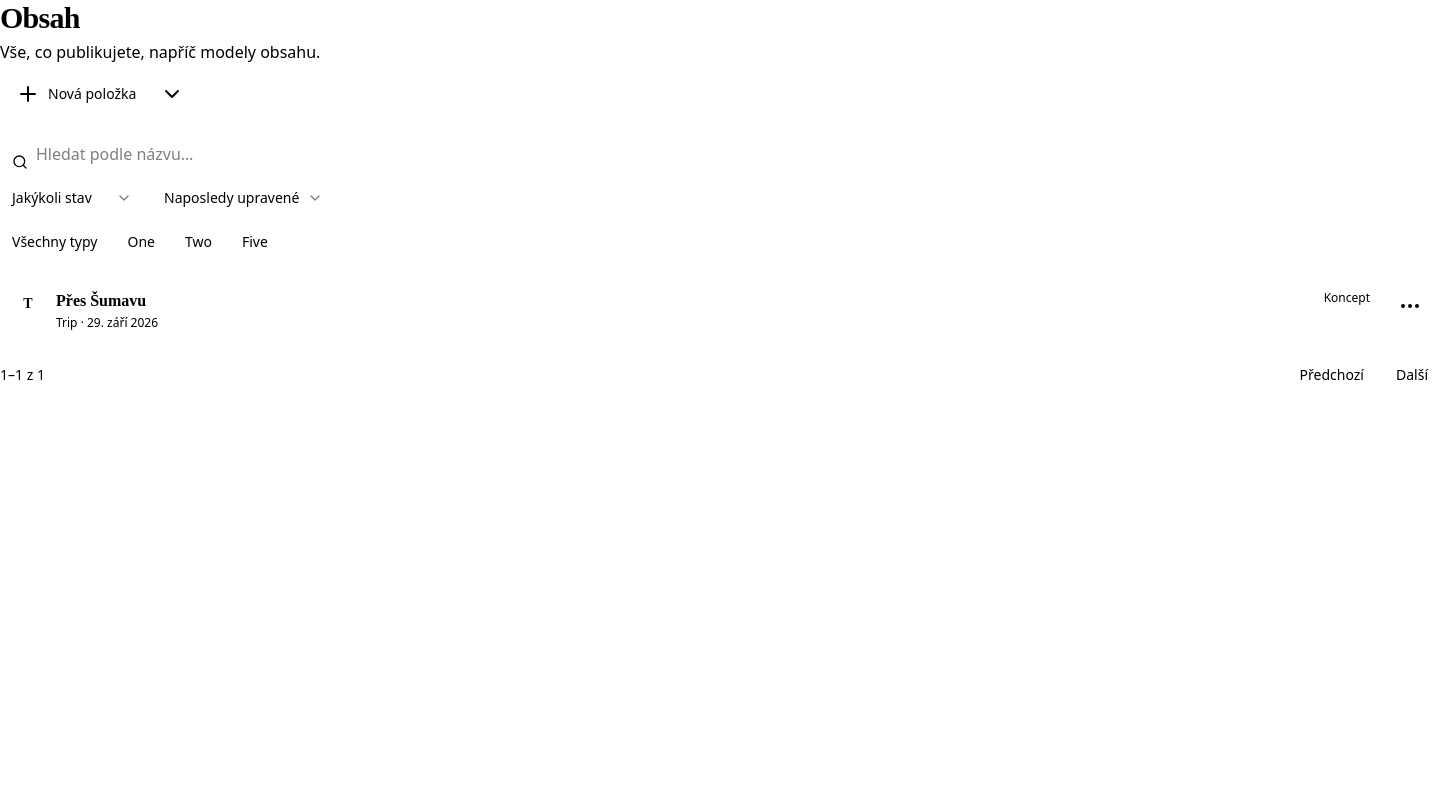
Scenario: in Czech › counts model fields with Czech plurals
Click the button "Nová položka" at (76, 94), box [0,76,152,112]
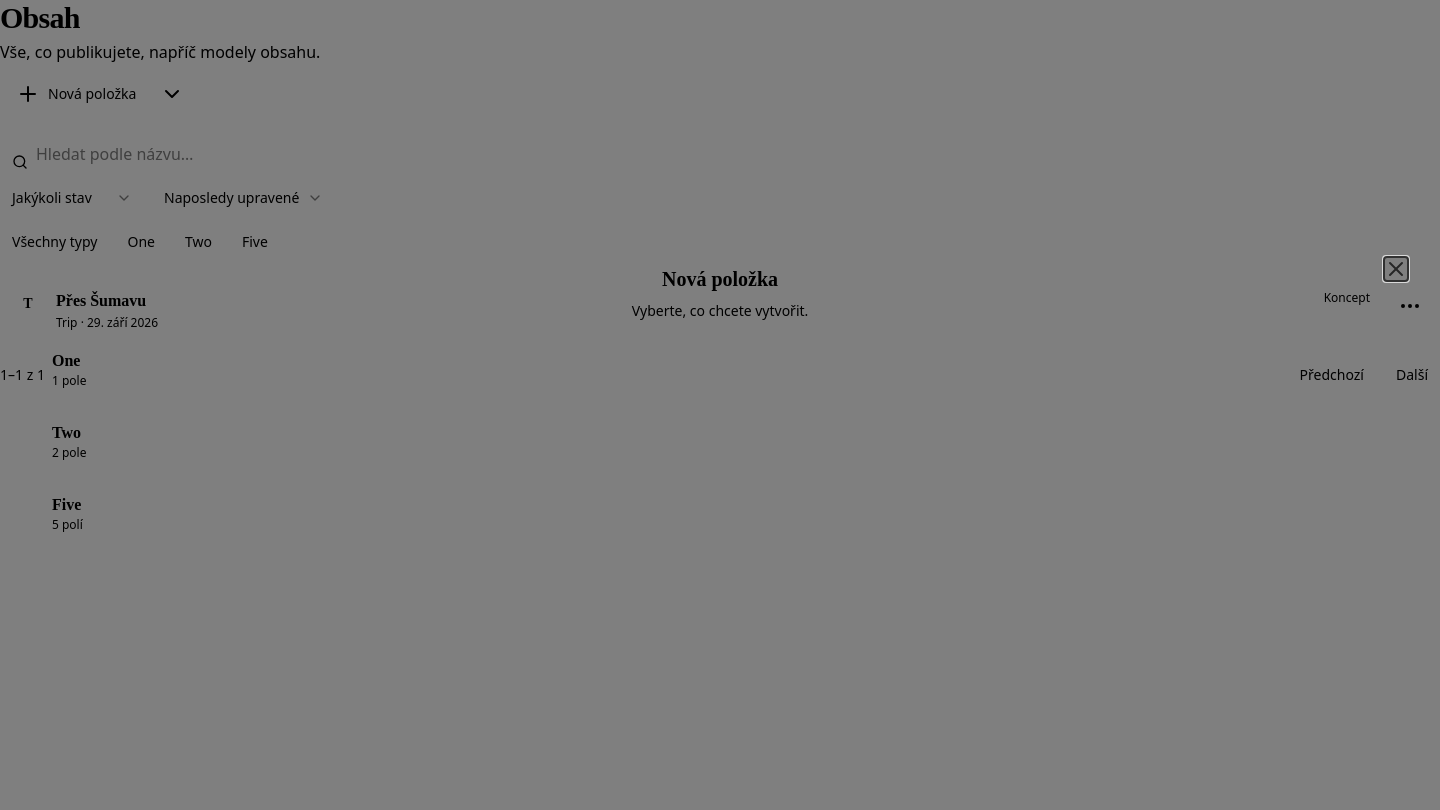
Expected: the text "1 pole" is shown, [52,372,86,389]
Expected: the text "2 pole" is shown, [52,444,86,461]
Expected: the text "5 polí" is shown, [52,516,83,533]
